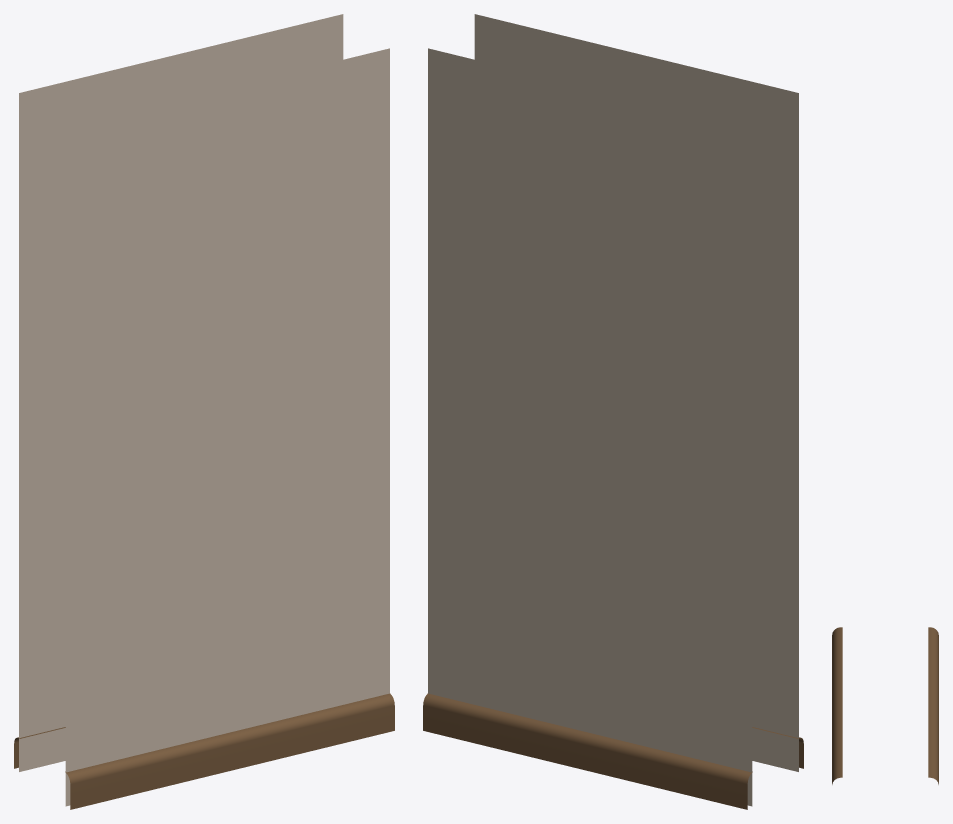
File: SM_Building_Wall_2M_01.fbx
3 views of the same model, side by side, from view 1: azimuth 30°, elevation 25°; view 2: azimuth 150°, elevation 25°; view 3: azimuth 270°, elevation 25° (orthographic). The views are drawn at different scales.
Parts seen in each view (by area): view 1: SM_Wall_01.002; view 2: SM_Wall_01.002; view 3: SM_Wall_01.002.
Part boxes in pixels (left/top/right/bottom): SM_Wall_01.002: left=14, top=14, right=394, bottom=809; SM_Wall_01.002: left=423, top=14, right=803, bottom=809; SM_Wall_01.002: left=832, top=627, right=938, bottom=784.
Bounding box in the file's own units: 200 × 400 × 60.
